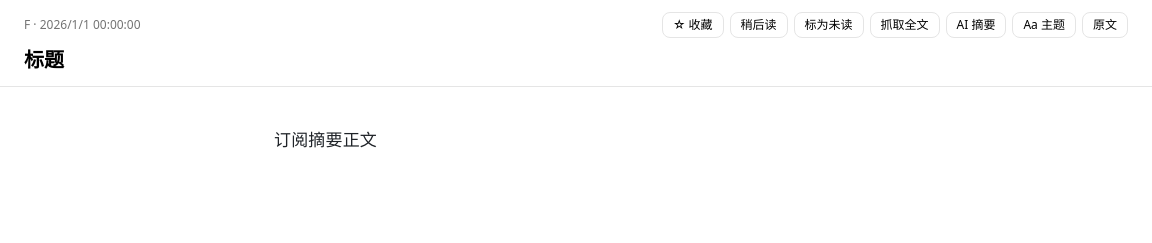
Test: ReaderPane AI 摘要 › 模型未按 JSON 输出:降级卡片保留原始回复并给出说明,不写缓存
Click the button "AI 摘要": {"x": 976, "y": 25} [946,12,1006,38]
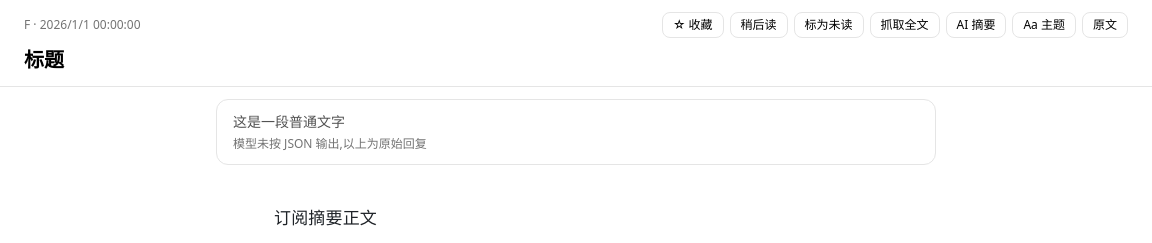
Expected: the text "模型未按 JSON 输出,以上为原始回复" is shown, [233,134,427,152]
Expected: the text "这是一段普通文字" is shown, [233,112,345,130]
